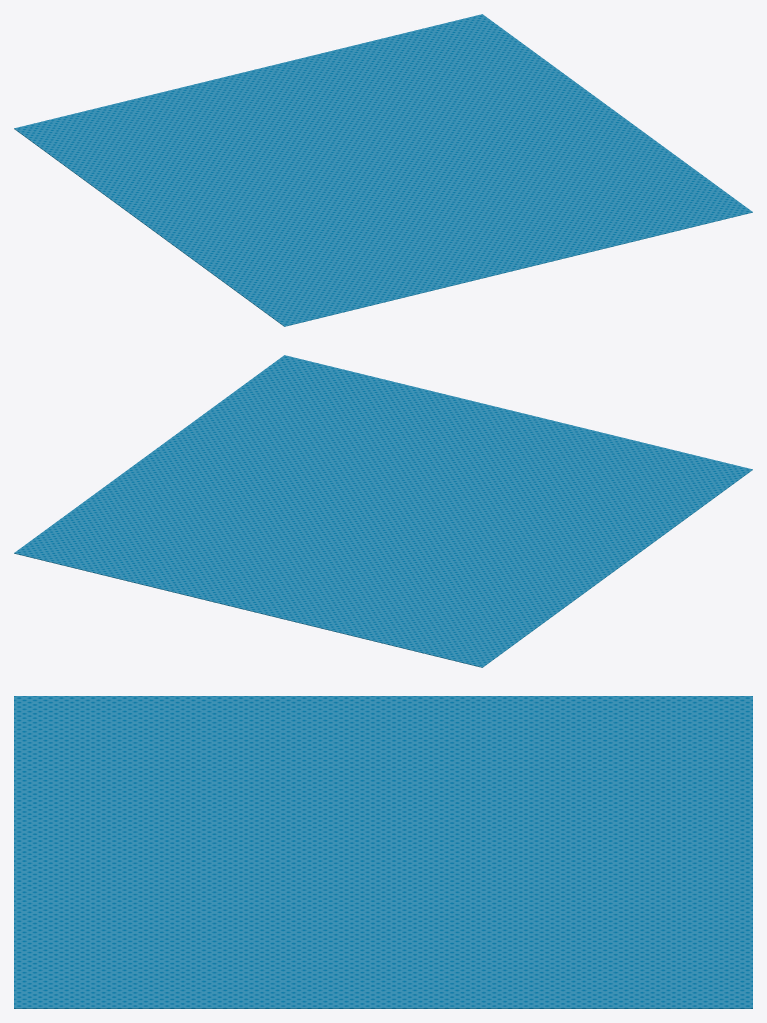
File: Sang.fbx
The picture shows the model from 3 angles, top to bottom: view 1: azimuth 30°, elevation 25°; view 2: azimuth 150°, elevation 25°; view 3: azimuth 270°, elevation 25°; orthographic projection. The views are drawn at different scales.
Parts seen in each view (by area): view 1: Sang; view 2: Sang; view 3: Sang.
Part boxes in pixels (bbox=[...]): Sang: bbox=[14, 14, 752, 326]; Sang: bbox=[14, 355, 752, 667]; Sang: bbox=[14, 696, 752, 1008].
Size of the model in its own units: 9.57 by 0.00956 by 9.57.
1 material, 1 textured.
